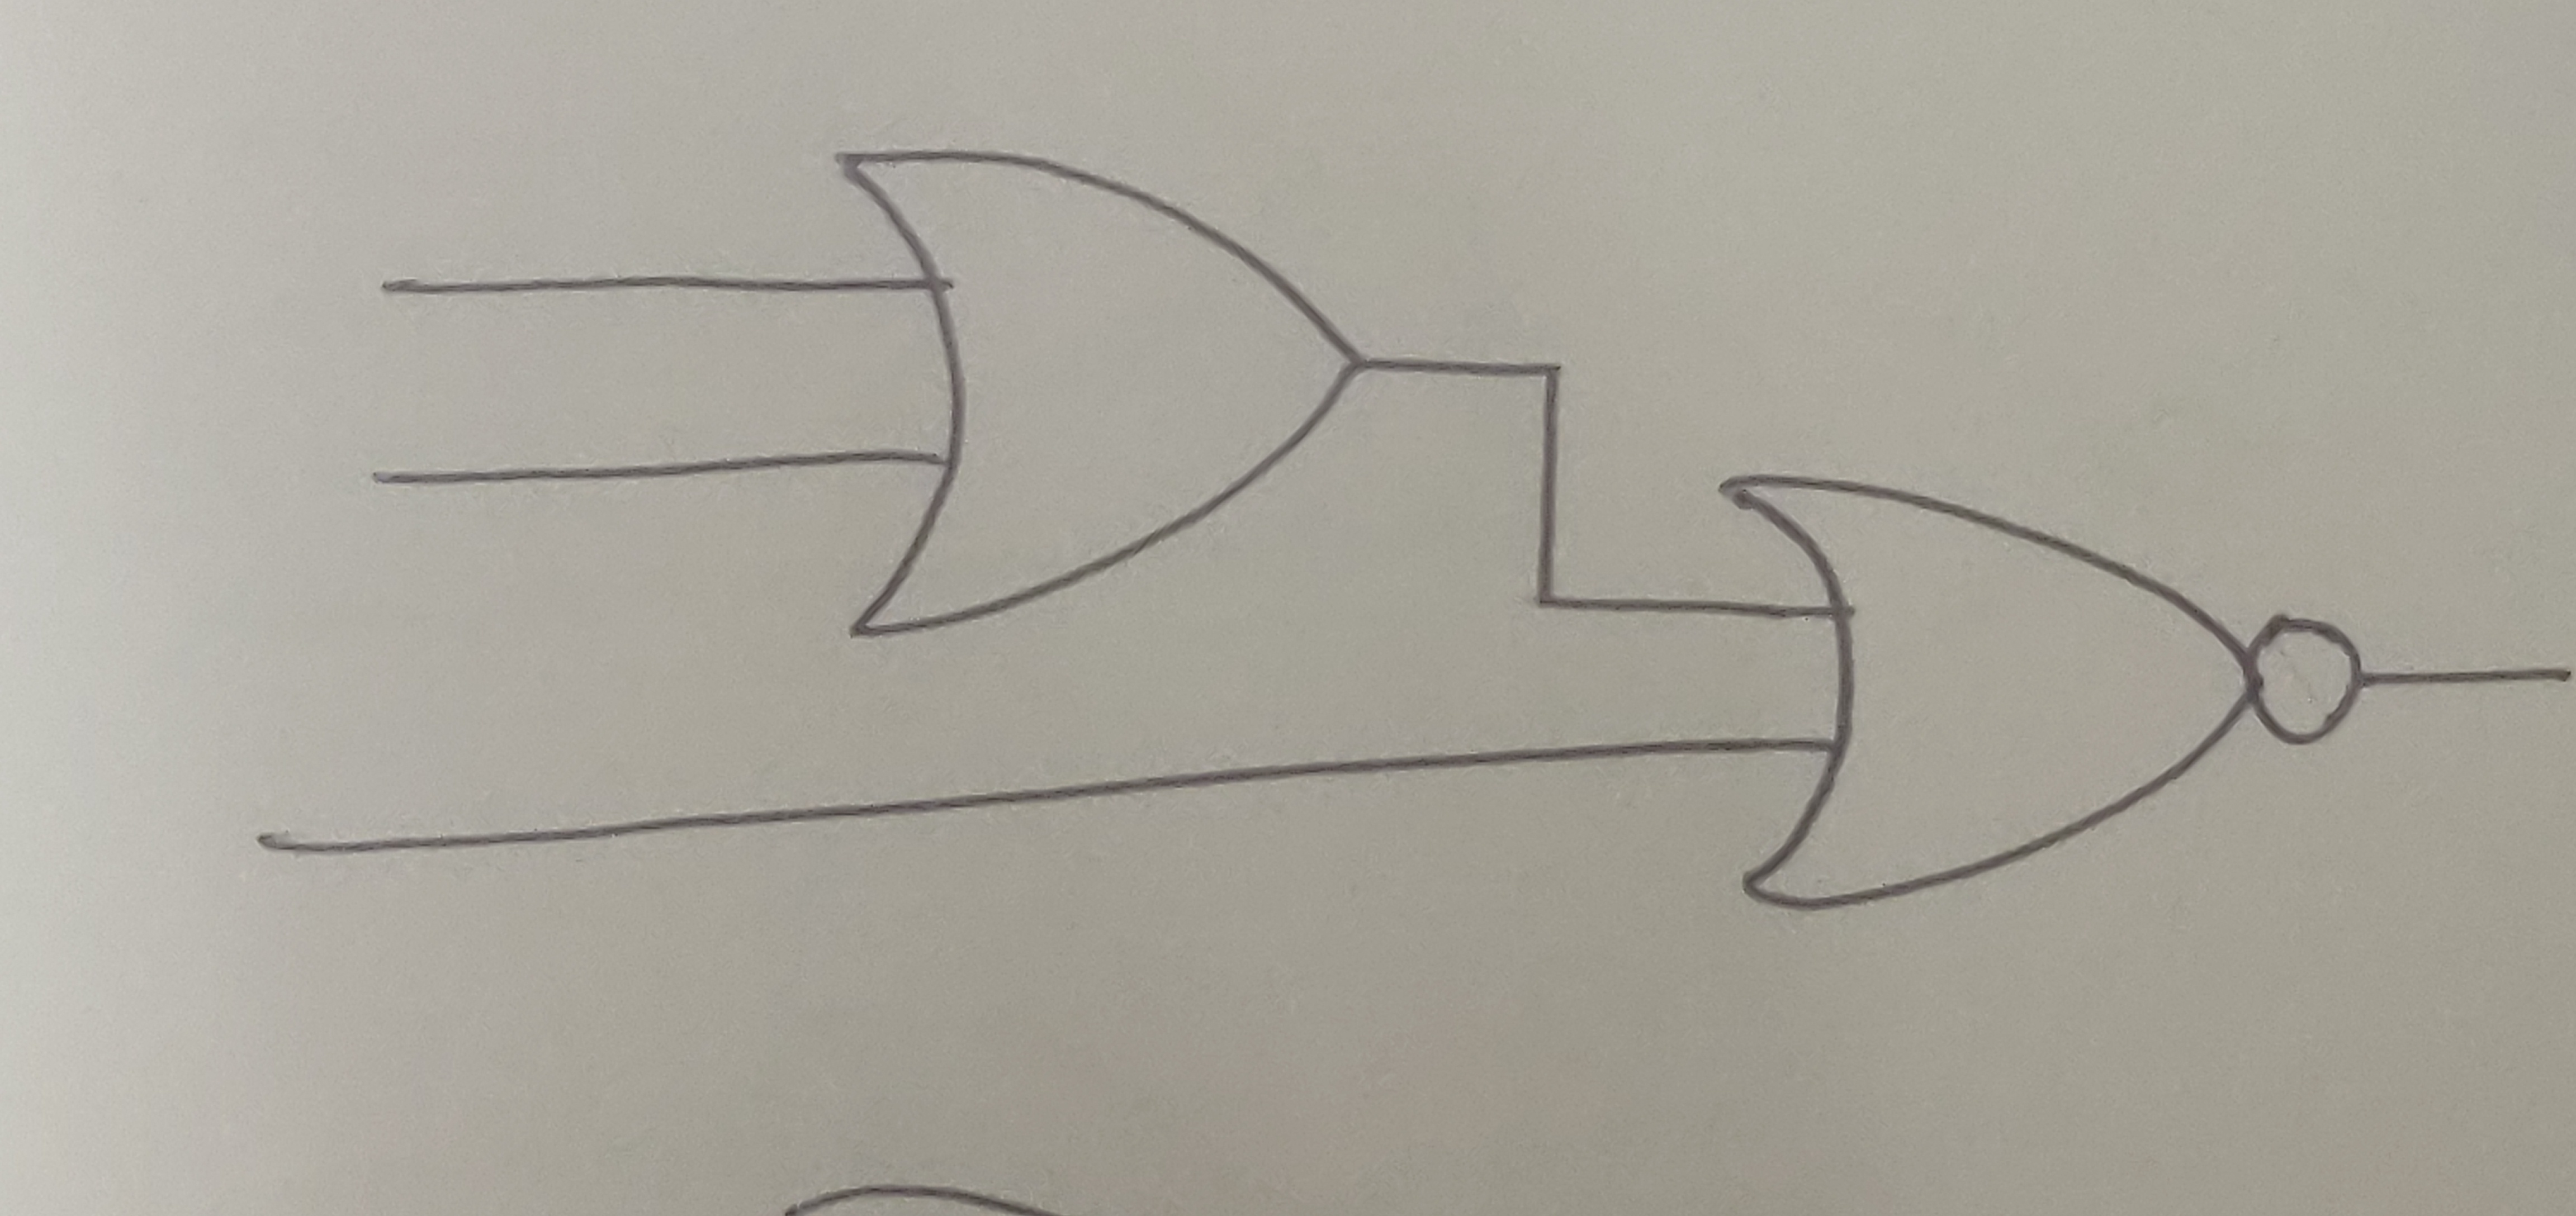not: (2241, 601, 2366, 749)
or: (835, 148, 1364, 641), (1715, 473, 2257, 920)
